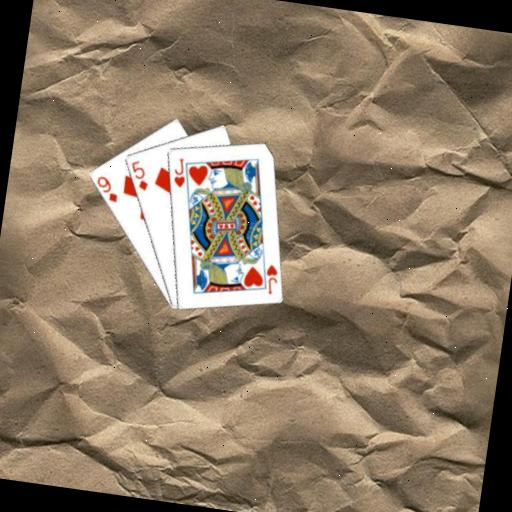5D: (125, 157, 153, 193)
9D: (91, 173, 122, 205)
JH: (169, 154, 190, 189), (260, 261, 281, 296)
